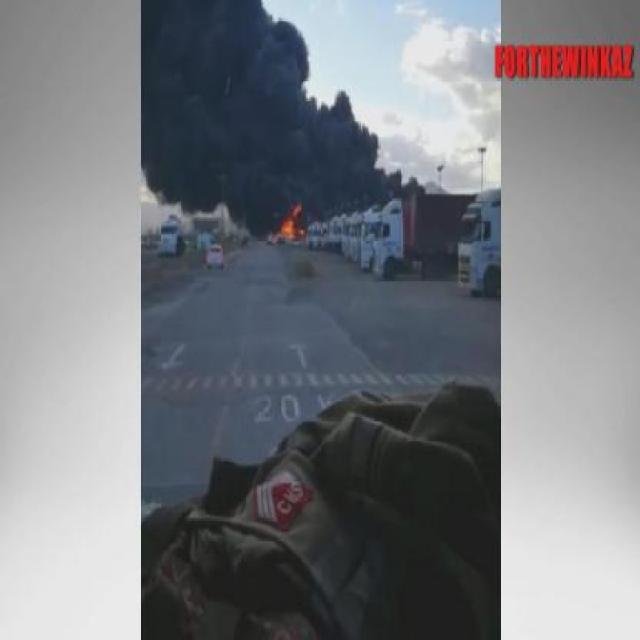Fire: (278, 210, 304, 243)
